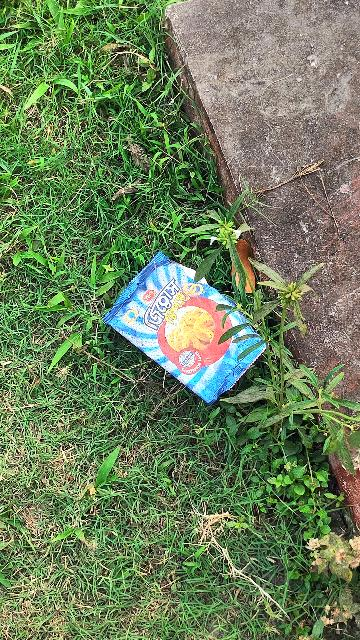packet: (91, 254, 275, 400)
